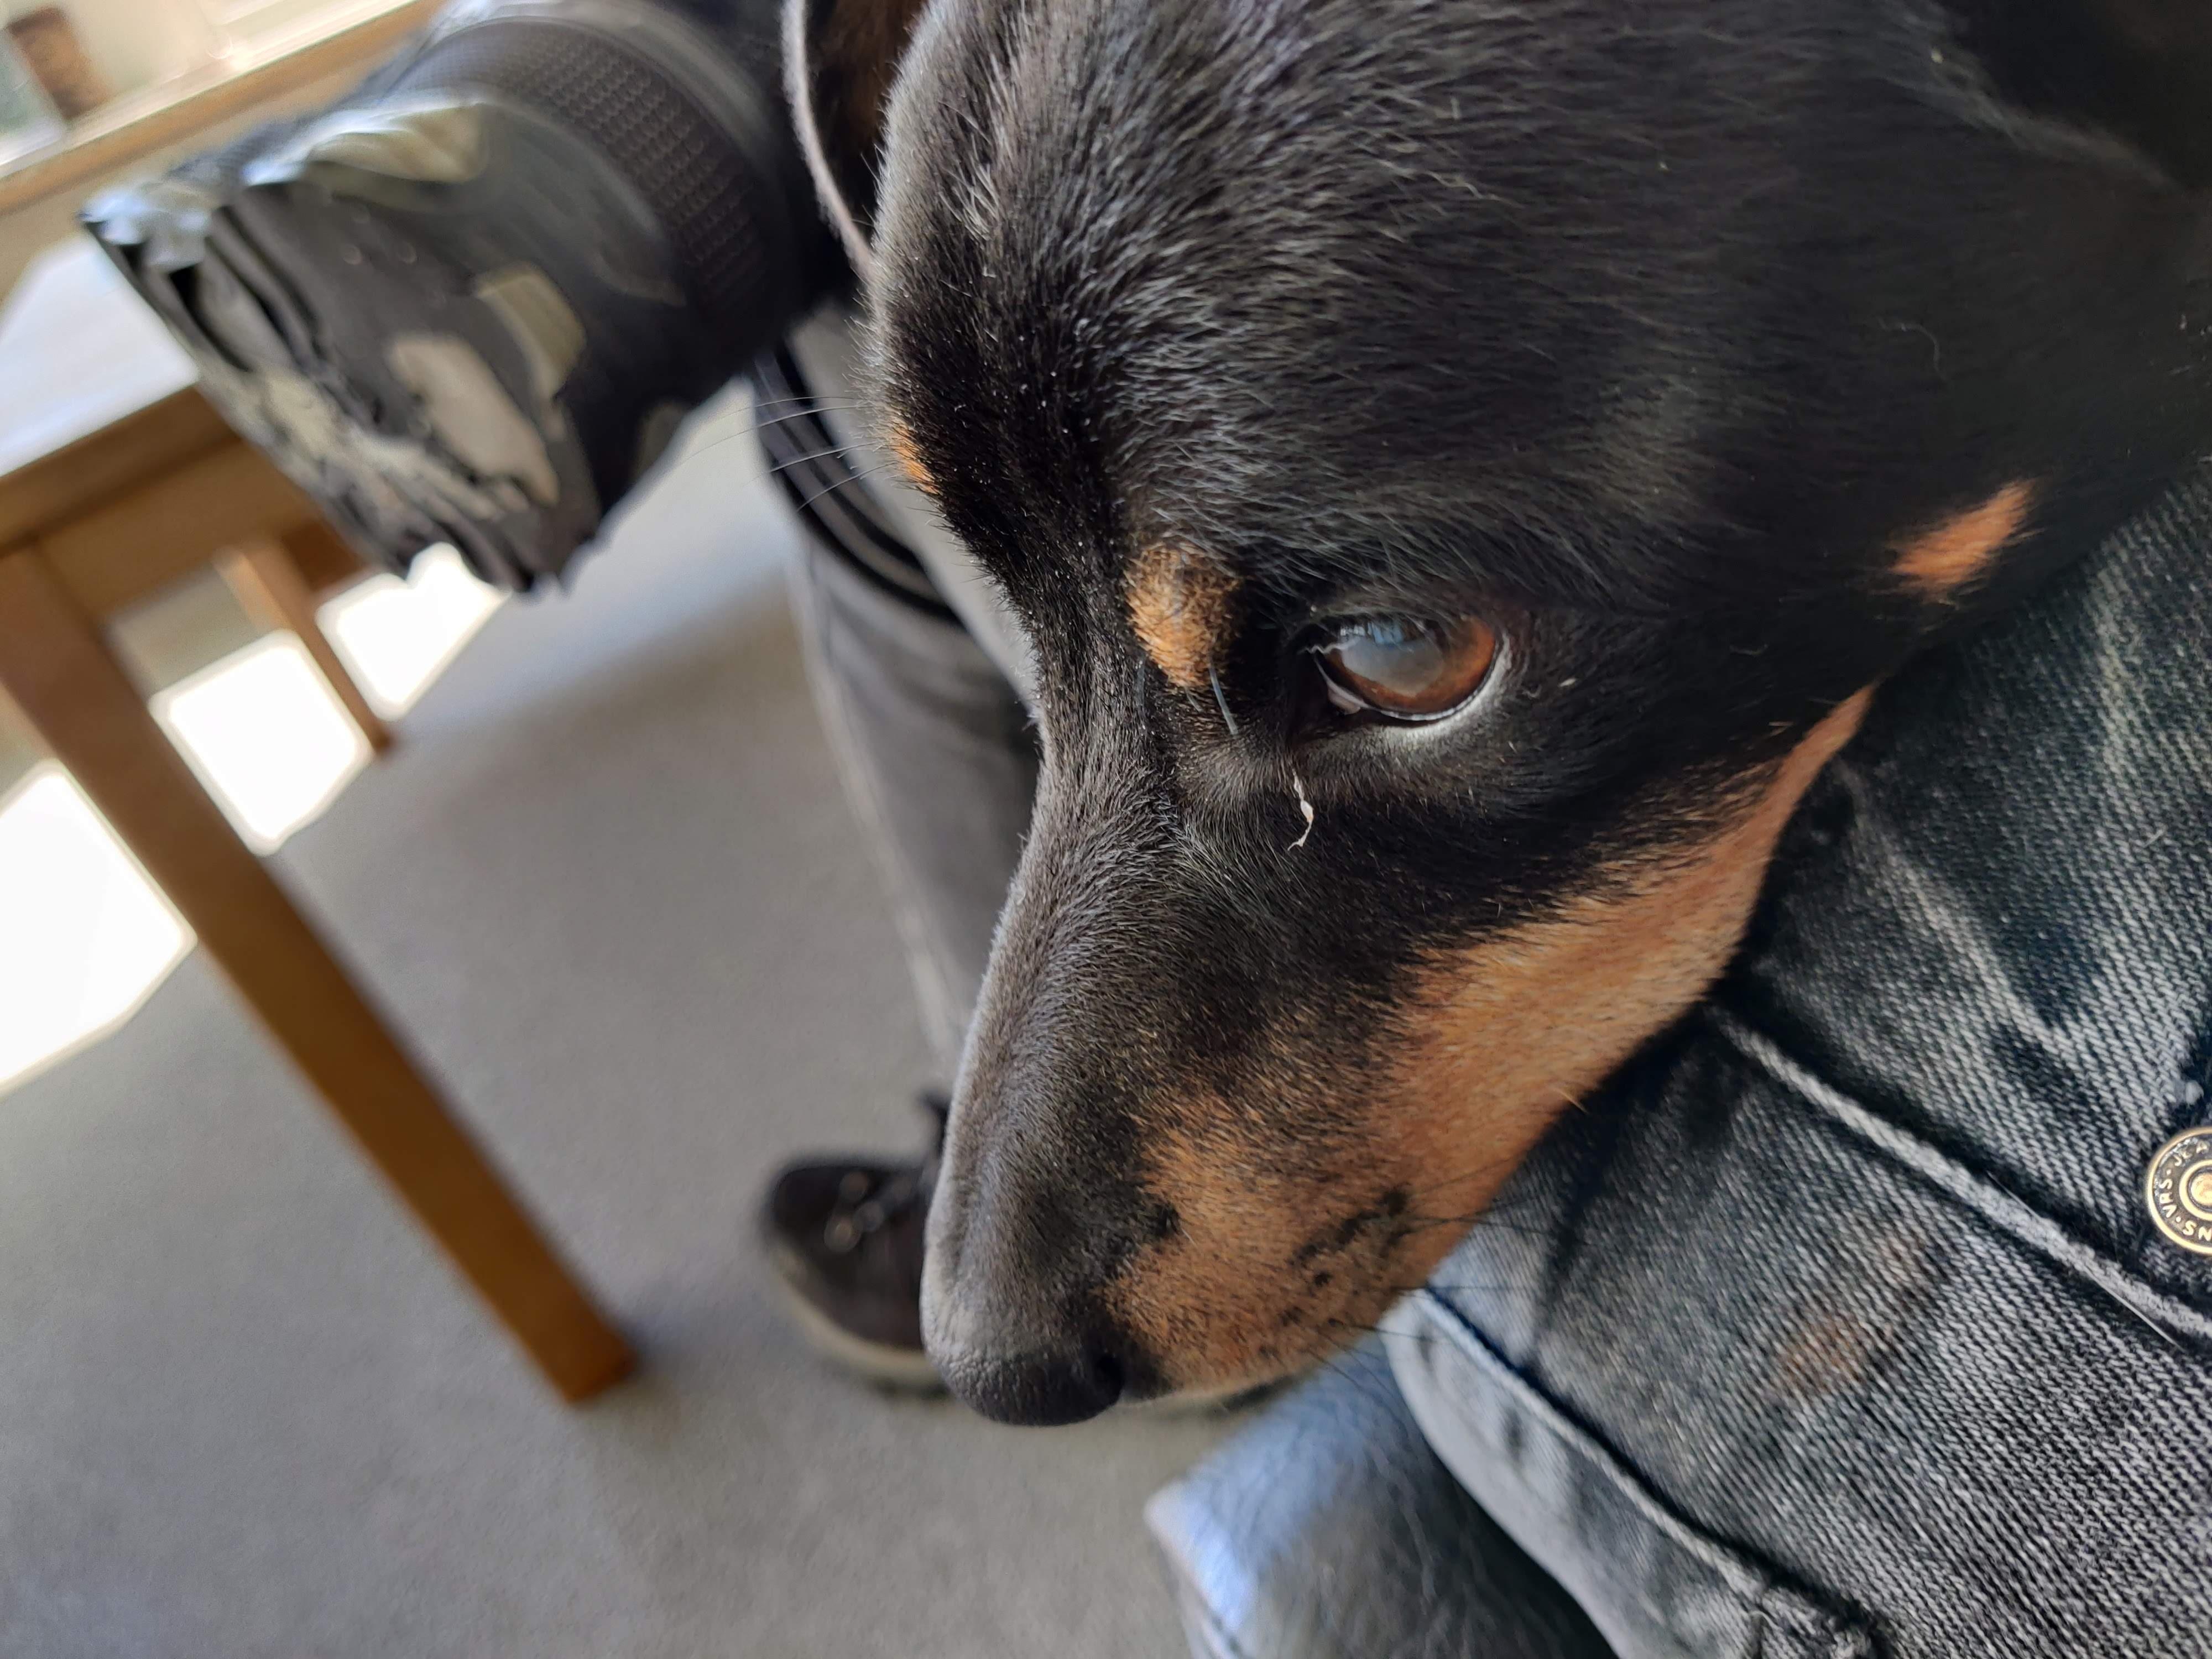Dog: (836, 0, 2212, 1474)
